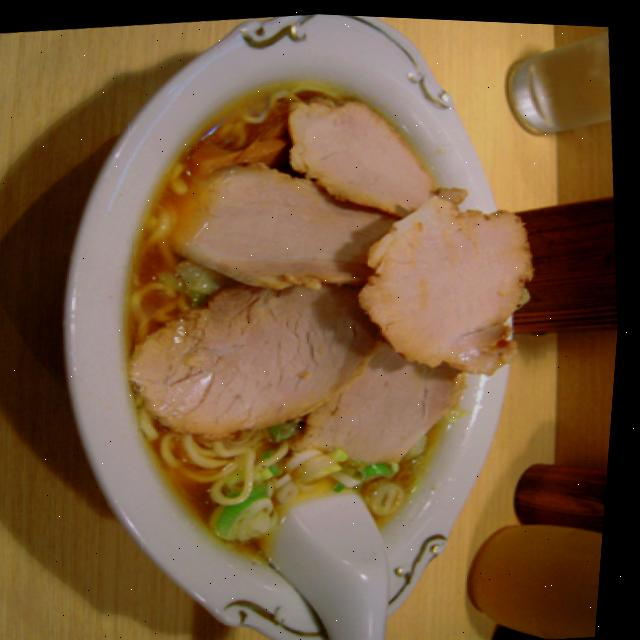面条主食: (98, 45, 547, 585)
